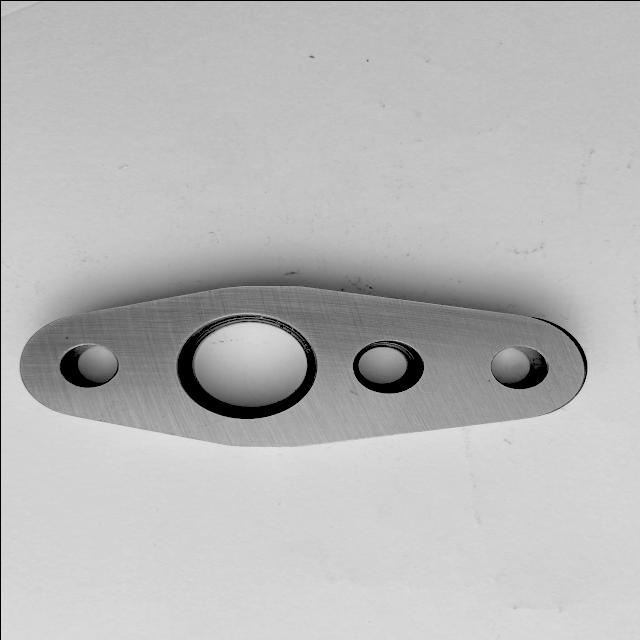chap: (328, 384, 338, 392)
lines: (195, 416, 228, 430), (346, 388, 360, 396)
